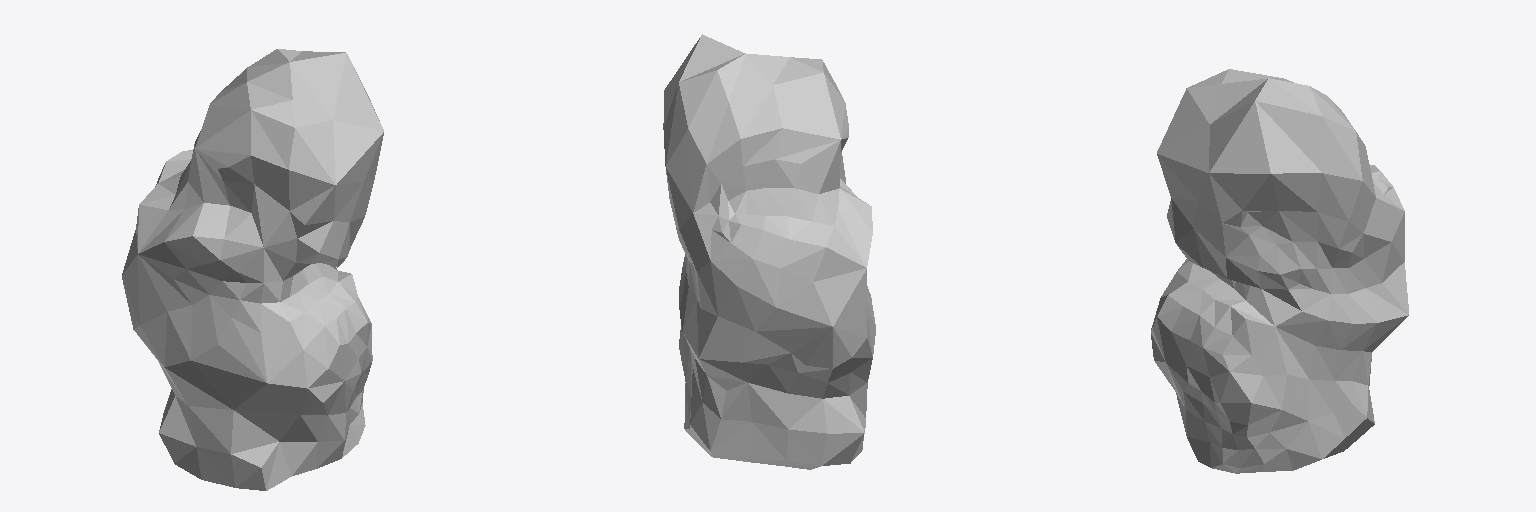
File: Piedra1.obj
The picture shows the model from 3 angles: view 1: azimuth 30°, elevation 25°; view 2: azimuth 150°, elevation 25°; view 3: azimuth 270°, elevation 25°; orthographic projection.
Parts seen in each view (by area): view 1: g_Box001.004_meshId0_name.009; view 2: g_Box001.004_meshId0_name.009; view 3: g_Box001.004_meshId0_name.009.
Boxes of the visible parts, x1=… form: g_Box001.004_meshId0_name.009: x1=122, y1=49, x2=383, y2=490; g_Box001.004_meshId0_name.009: x1=663, y1=34, x2=875, y2=469; g_Box001.004_meshId0_name.009: x1=1151, y1=69, x2=1408, y2=473.
Bounding box in the file's own units: 3.71 × 6.31 × 3.83.